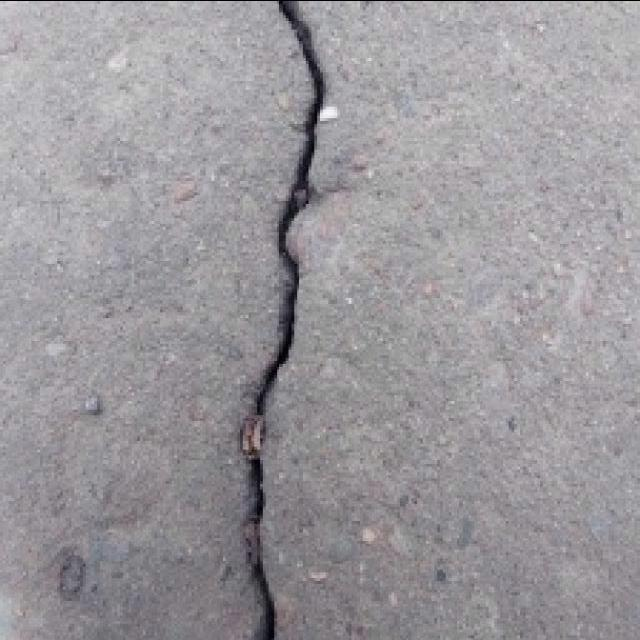SurfaceCrack: (216, 0, 354, 640)
